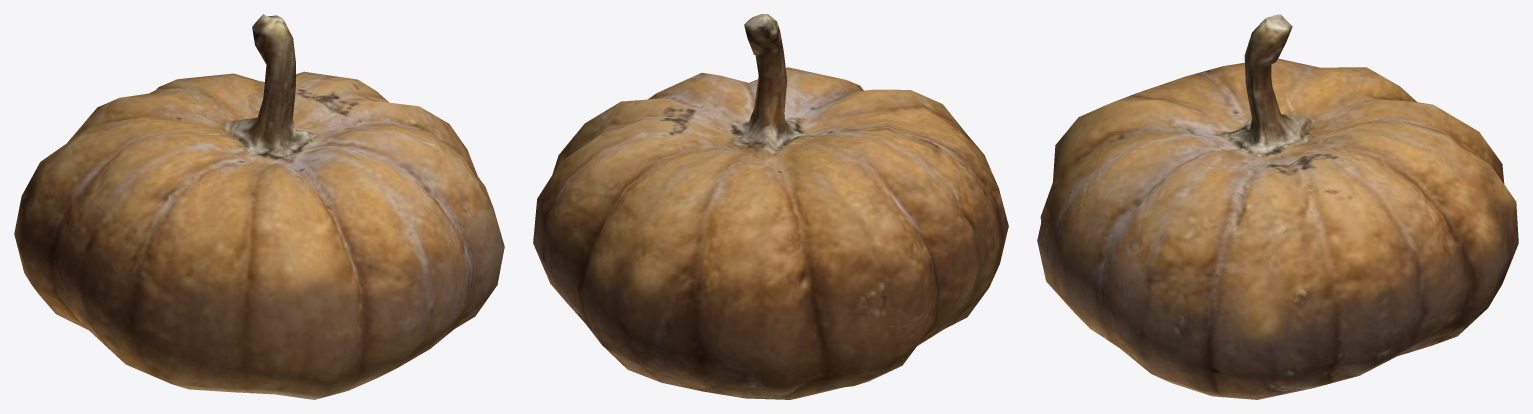
File: A16_Pumpkin_low.fbx
3 renders of one model, left to right at view 1: azimuth 30°, elevation 25°; view 2: azimuth 150°, elevation 25°; view 3: azimuth 270°, elevation 25°, orthographic.
Visible parts, largest first — view 1: A16_Pumpkin_low; view 2: A16_Pumpkin_low; view 3: A16_Pumpkin_low.
Part boxes in pixels (left/top/right/bottom): A16_Pumpkin_low: left=14, top=14, right=504, bottom=399; A16_Pumpkin_low: left=533, top=14, right=1008, bottom=399; A16_Pumpkin_low: left=1037, top=14, right=1518, bottom=399.
Size of the model in its own units: 30.59 by 30.96 by 22.92.
Materials: 1 (1 with a texture image).
